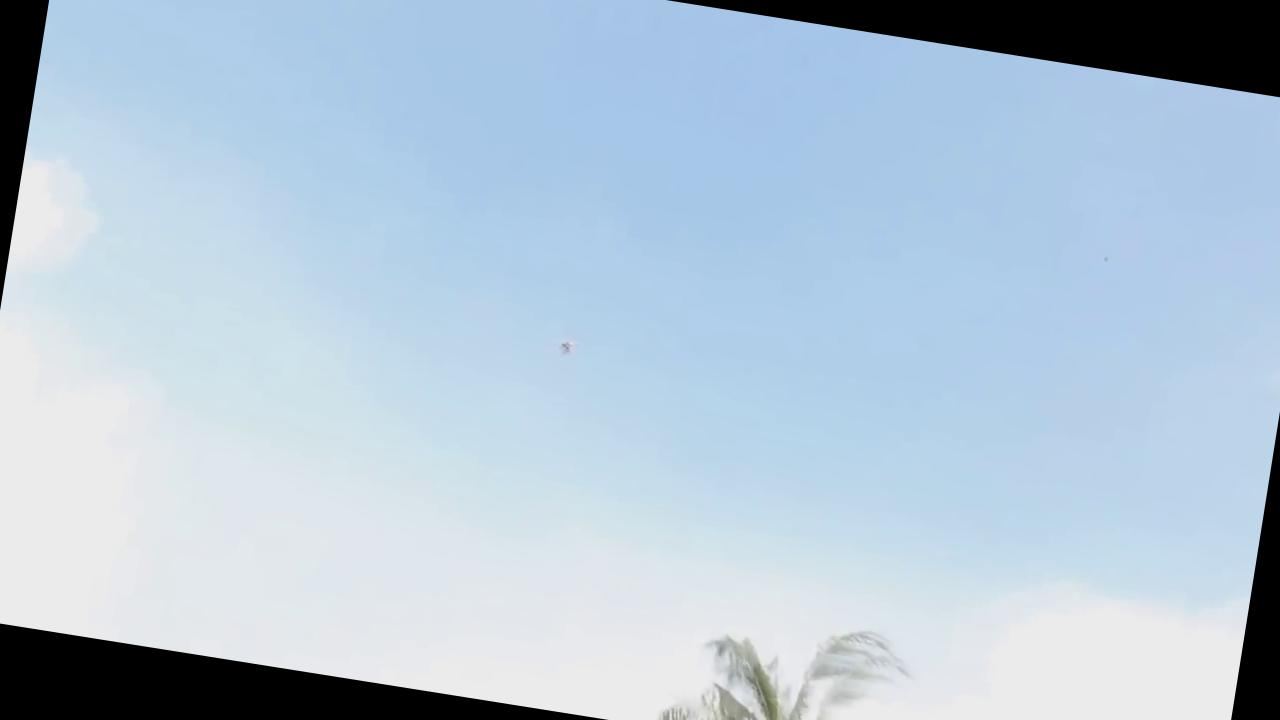drone: (558, 334, 581, 360)
